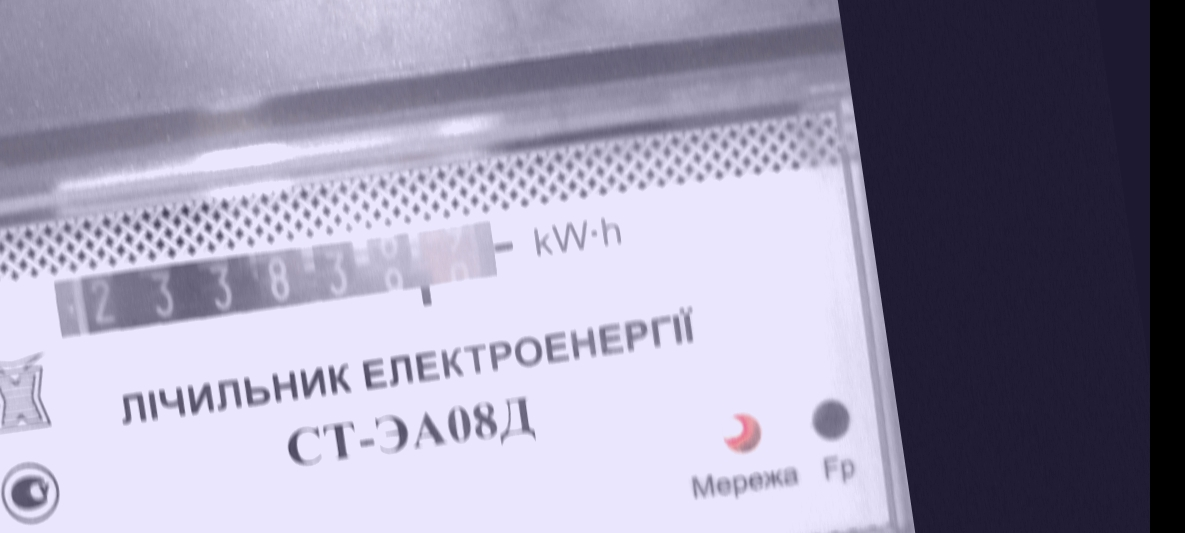0: (443, 256, 472, 284)
2: (83, 274, 118, 326)
3: (144, 267, 178, 320), (205, 261, 236, 314), (319, 246, 351, 297)
8: (261, 254, 292, 302), (372, 231, 403, 261)
9: (376, 262, 407, 294), (438, 221, 467, 253)
screen: (38, 203, 518, 362)
